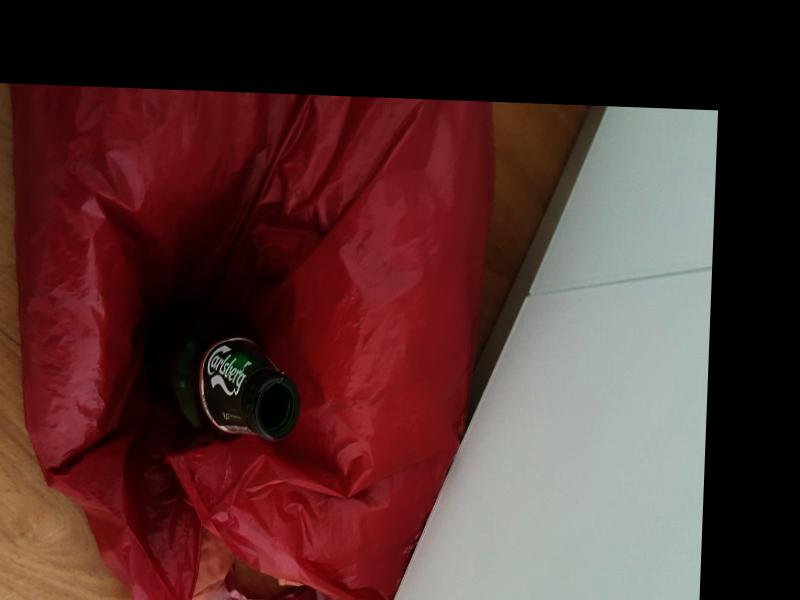Beer: (140, 307, 301, 441)
